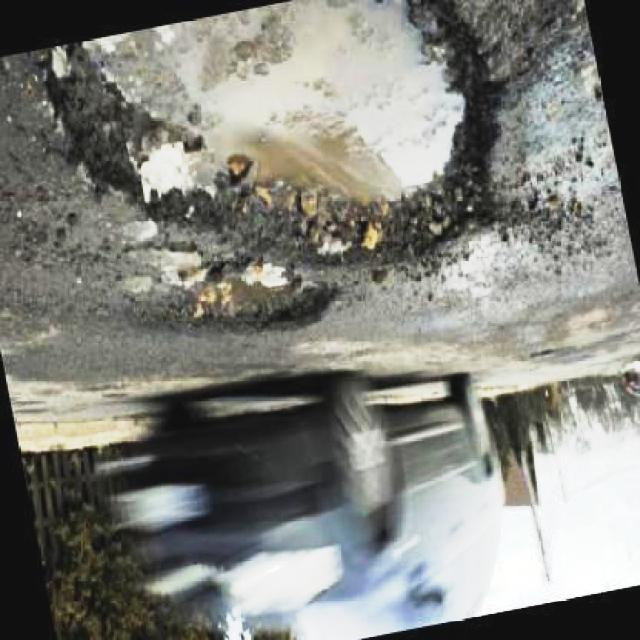pothole: (11, 0, 511, 268), (171, 254, 338, 331)
